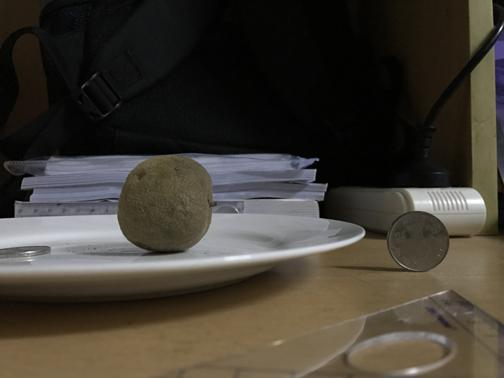coin: (389, 211, 448, 272)
qiwi: (114, 157, 215, 254)
